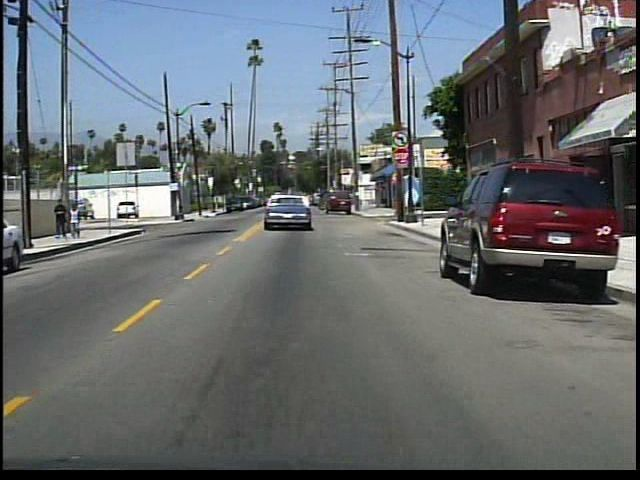person: (55, 196, 72, 239), (68, 201, 86, 239)
